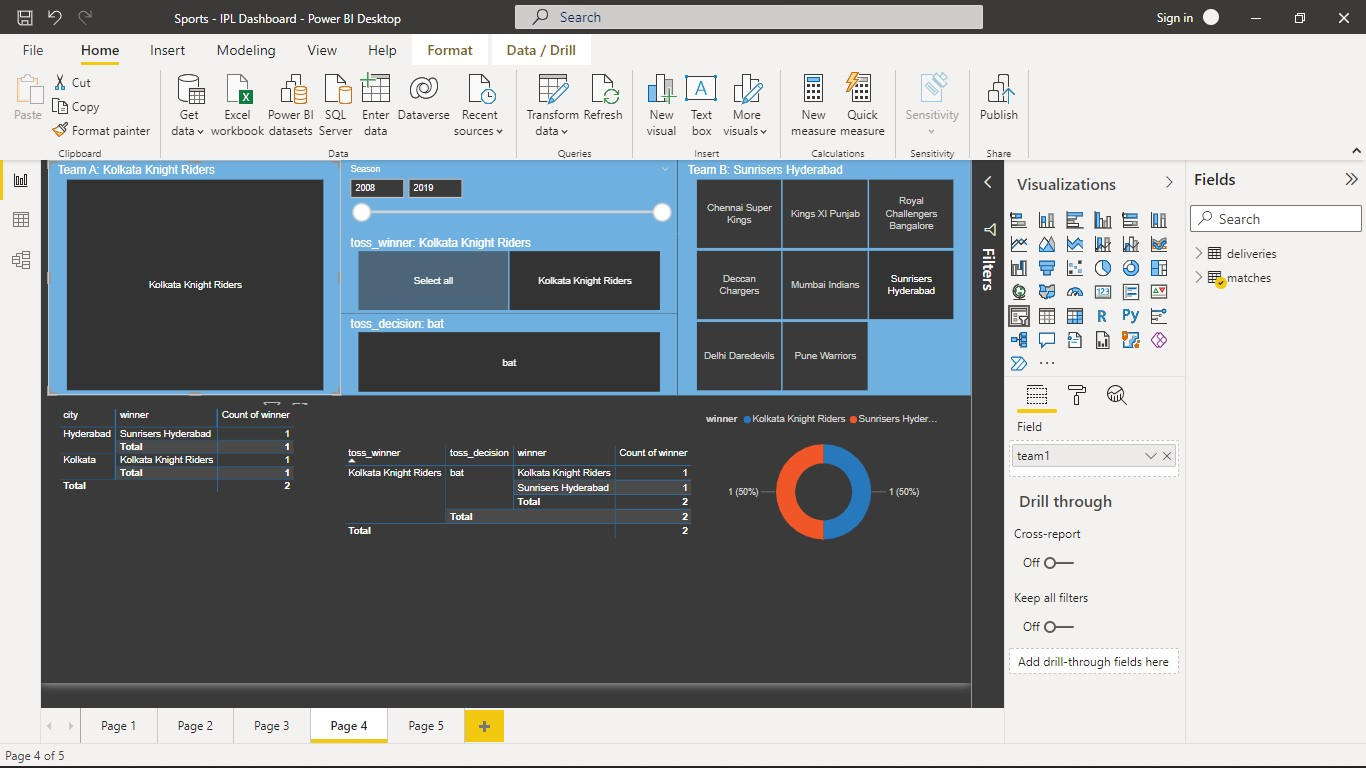

The dashboard page shown, as its layout file describes it:
{"tool":"powerbi","page":{"name":"Page 4","canvas":[1280,720],"ordinal":3},"visuals":[{"type":"slicer","fields":{"Values":["matches.team1"]},"box":[9.6,0,403.3,323.4],"z":0},{"type":"slicer","fields":{"Values":["matches.team2"]},"box":[876.2,0,403.3,323.8],"z":1000},{"type":"slicer","fields":{"Values":["matches.season"]},"box":[413.3,0,463,100.8],"z":2000},{"type":"slicer","fields":{"Values":["matches.toss_winner"]},"box":[413.3,100.8,463,110.8],"z":3000},{"type":"slicer","fields":{"Values":["matches.toss_decision"]},"box":[413.3,211.6,463,112.2],"z":4000},{"type":"donutChart","fields":{"Category":["matches.winner"],"Y":["CountNonNull(matches.winner)"]},"box":[911.7,336.6,332.3,210.2],"z":5000},{"type":"pivotTable","fields":{"Rows":["matches.city","matches.winner"],"Values":["Min(matches.winner)"]},"box":[21.3,336.6,392,347.9],"z":6000},{"type":"pivotTable","fields":{"Rows":["matches.toss_winner","matches.toss_decision","matches.winner"],"Values":["Min(matches.winner)"]},"box":[413.3,387.7,519.8,296.8],"z":7000}]}

Visuals, with their boxes on the page's 1280x720 design canvas (x1, y1, x2, y2). These are canvas units, not pixel positions in the 1366x768 screenshot, which may show the page scaled, cropped or inside an application window:
slicer - matches.team1: [left=10, top=0, right=413, bottom=323]
slicer - matches.team2: [left=876, top=0, right=1280, bottom=324]
slicer - matches.season: [left=413, top=0, right=876, bottom=101]
slicer - matches.toss_winner: [left=413, top=101, right=876, bottom=212]
slicer - matches.toss_decision: [left=413, top=212, right=876, bottom=324]
donutChart - matches.winner x CountNonNull(matches.winner): [left=912, top=337, right=1244, bottom=547]
pivotTable - matches.city x matches.winner: [left=21, top=337, right=413, bottom=684]
pivotTable - matches.toss_winner x matches.toss_decision: [left=413, top=388, right=933, bottom=684]
